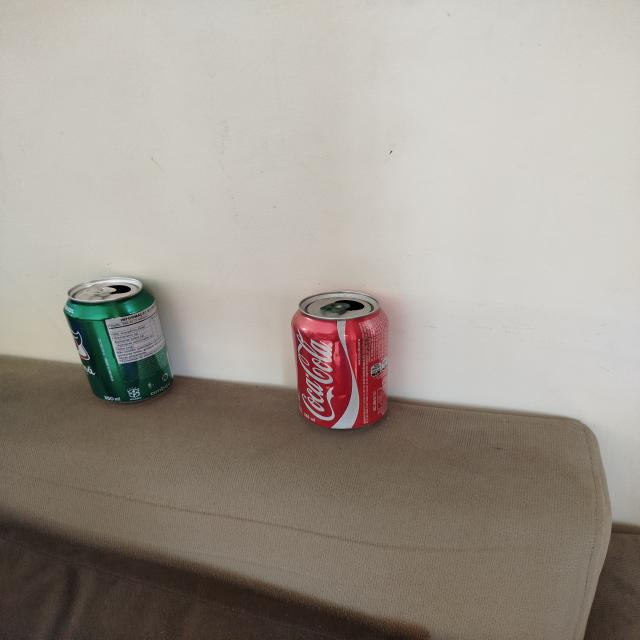Coca Cola: (293, 290, 390, 428)
Guarana: (64, 278, 174, 404)
